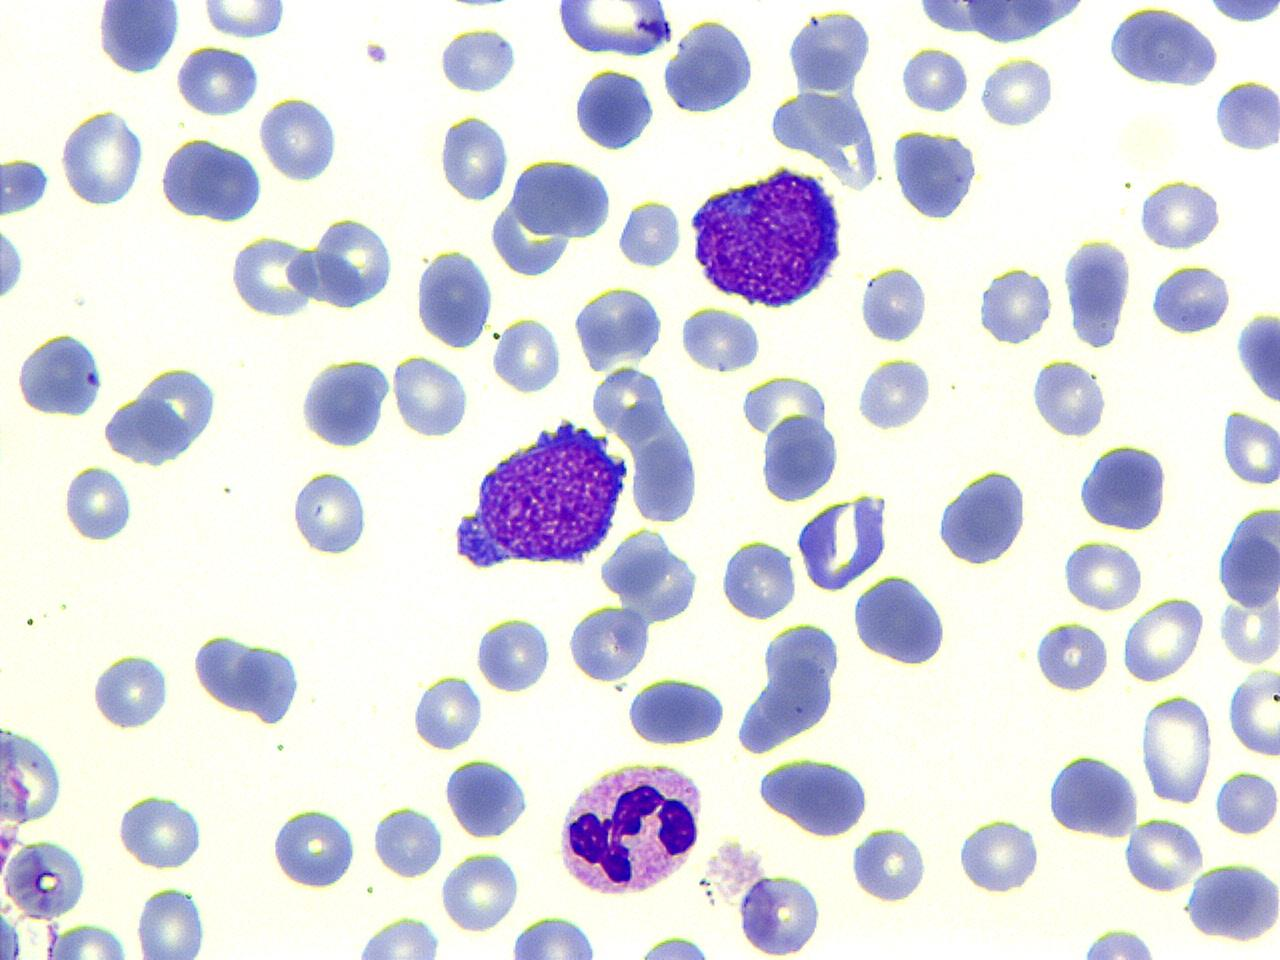Platelets: (436, 113, 510, 205), (1028, 357, 1108, 440), (473, 615, 554, 693), (850, 826, 928, 906), (856, 263, 930, 345), (1031, 622, 1113, 696), (676, 306, 764, 374), (436, 24, 521, 94), (62, 464, 134, 546), (409, 674, 484, 752), (1212, 77, 1280, 154), (1218, 407, 1278, 485), (1233, 308, 1280, 406), (201, 2, 288, 41), (1, 156, 53, 219), (1072, 925, 1162, 960), (0, 223, 26, 305), (1203, 0, 1279, 25)
RBC: (58, 104, 146, 208), (572, 284, 666, 373), (1139, 692, 1213, 804), (1061, 234, 1133, 349), (312, 213, 397, 310), (784, 7, 874, 95), (736, 870, 824, 958), (0, 716, 64, 836), (270, 806, 357, 892), (1, 836, 90, 920), (1121, 595, 1205, 684), (624, 676, 730, 746), (228, 233, 314, 319), (116, 790, 206, 872), (258, 93, 338, 184), (290, 468, 369, 558), (439, 847, 523, 931), (90, 648, 172, 733), (956, 813, 1041, 895), (389, 353, 470, 439), (555, 1, 673, 59), (438, 110, 510, 205), (566, 603, 650, 684), (718, 537, 798, 622), (1135, 176, 1221, 252), (473, 614, 554, 694), (173, 44, 260, 118), (1121, 814, 1203, 892), (192, 140, 268, 224), (847, 826, 926, 906), (1061, 536, 1143, 612), (1031, 618, 1111, 695), (410, 672, 484, 754), (234, 640, 304, 726), (677, 304, 763, 374), (62, 460, 133, 544), (490, 314, 561, 396), (976, 55, 1054, 129), (369, 804, 444, 880), (134, 884, 208, 960), (898, 44, 970, 116), (615, 197, 684, 271), (1226, 664, 1280, 758), (1218, 586, 1280, 667), (1219, 406, 1280, 486), (1214, 767, 1278, 838), (198, 1, 286, 40), (45, 922, 130, 960)
WBC: (448, 413, 629, 572), (683, 161, 847, 311), (1, 691, 93, 950), (554, 756, 706, 904), (730, 612, 844, 754), (490, 152, 620, 276), (99, 353, 224, 476), (754, 752, 874, 838), (659, 15, 760, 117), (932, 466, 1030, 570), (1104, 3, 1220, 90), (795, 490, 889, 594), (295, 354, 394, 452), (896, 0, 1103, 46), (851, 571, 949, 668), (887, 124, 981, 222), (1, 712, 67, 850), (1075, 440, 1171, 534), (12, 327, 109, 420), (167, 135, 262, 227), (413, 246, 497, 350), (1045, 750, 1141, 840), (572, 282, 669, 371), (757, 406, 844, 504), (784, 4, 874, 97), (1182, 860, 1280, 945), (736, 868, 823, 960), (1063, 236, 1133, 349), (269, 804, 358, 892), (2, 834, 93, 920), (114, 790, 209, 872), (442, 755, 532, 841), (624, 675, 730, 748), (574, 65, 657, 154), (258, 95, 341, 183), (566, 601, 652, 685), (958, 814, 1042, 898), (90, 650, 174, 734), (974, 262, 1056, 348), (1216, 500, 1280, 610), (390, 353, 472, 438), (1030, 354, 1108, 440), (94, 1, 183, 76), (852, 353, 936, 432), (474, 612, 552, 694), (1149, 260, 1231, 338), (857, 261, 928, 346), (436, 24, 518, 97), (235, 640, 301, 727), (370, 802, 443, 880), (0, 171, 33, 328), (340, 911, 448, 958), (617, 197, 683, 271), (506, 912, 602, 958), (1064, 924, 1172, 958), (0, 152, 51, 222)
